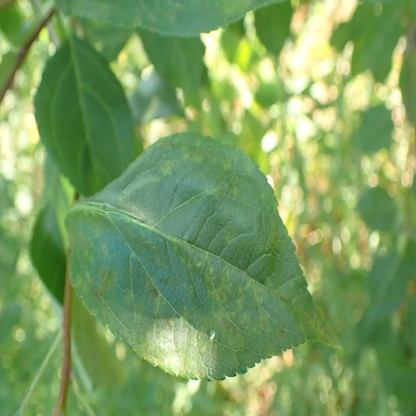scab: (69, 144, 341, 377), (224, 0, 253, 16)
